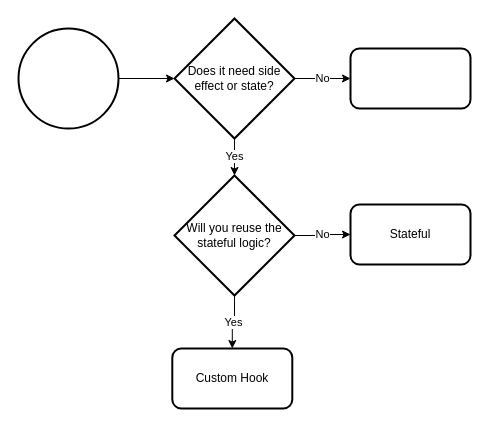
Some shapes in this 488 by 426 pixel diagram are drawn without their labels. The shapes that lost their labels are listed below. From the top down, each one's box as (x1, y1, x2, y2) in pixels, then its label:
(17, 27, 119, 129): New React Component
(349, 47, 471, 109): Stateless
